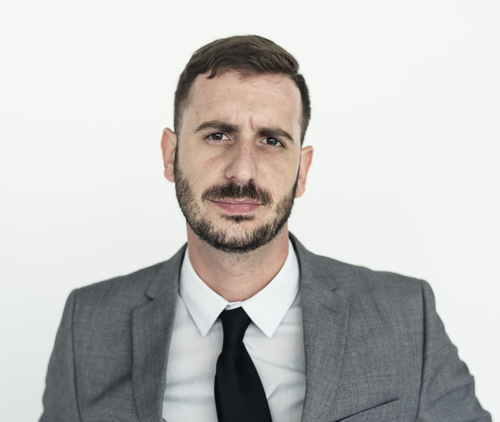confused: (166, 71, 305, 253)
